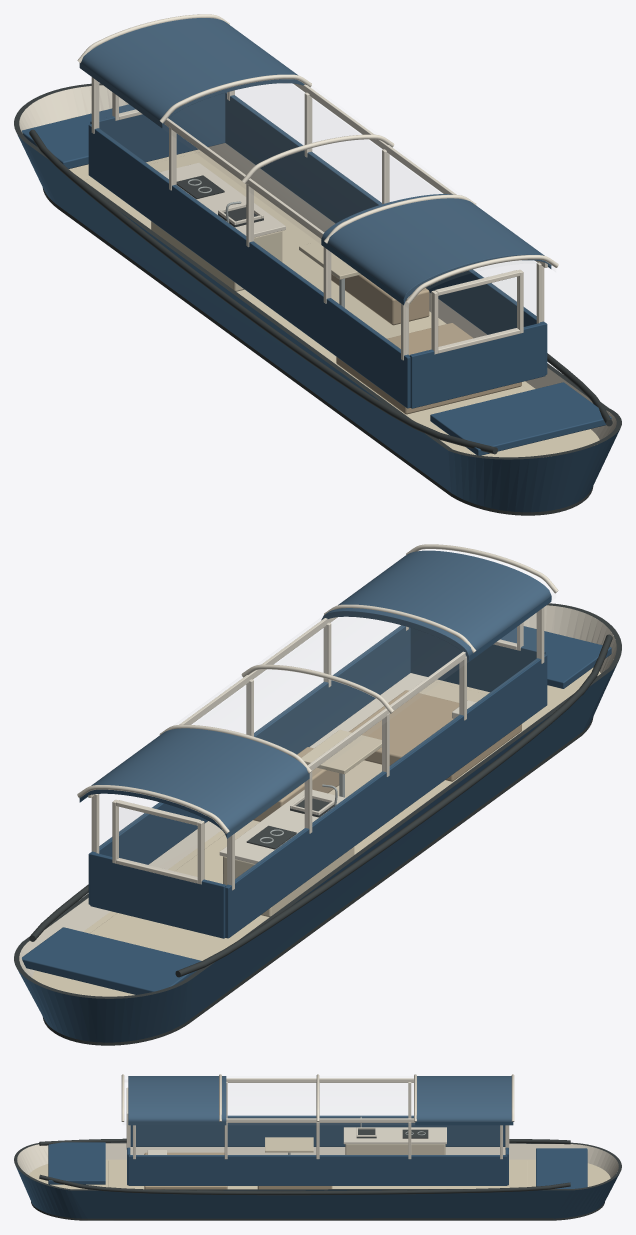
Rendered from canal-boats-and-lock-operations-canal-boats-and-lock-o-4e70647f__31642.glb.
The picture shows the model from 3 angles, top to bottom: view 1: azimuth 30°, elevation 25°; view 2: azimuth 150°, elevation 25°; view 3: azimuth 270°, elevation 25°; orthographic projection. The views are drawn at different scales.
Visible parts, largest first — view 1: canal-boats-and-lock-operations-cabin-narrowboat; view 2: canal-boats-and-lock-operations-cabin-narrowboat; view 3: canal-boats-and-lock-operations-cabin-narrowboat.
Part boxes in pixels (x1,y1,x2,y2): canal-boats-and-lock-operations-cabin-narrowboat: (14, 14, 621, 515); canal-boats-and-lock-operations-cabin-narrowboat: (14, 544, 621, 1045); canal-boats-and-lock-operations-cabin-narrowboat: (14, 1074, 621, 1220).
Size of the model in its own units: 2.26 by 2.21 by 10.6.
